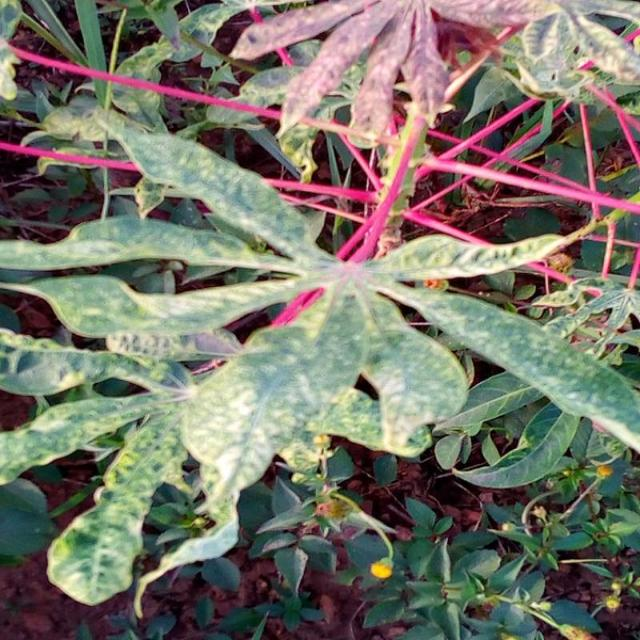cassava leaf: (0, 3, 638, 620)
